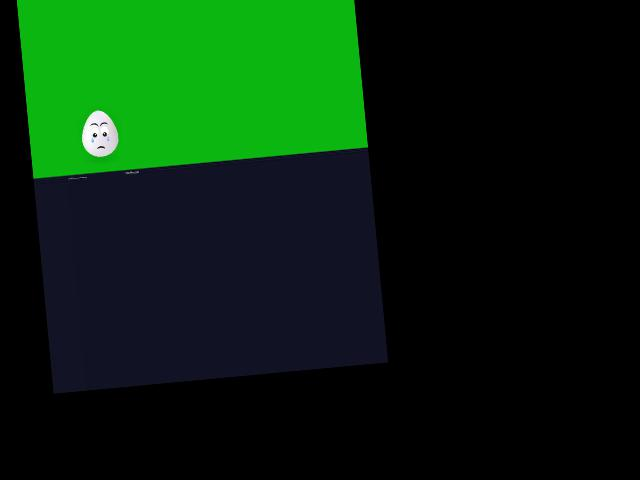egg: (79, 109, 119, 158)
